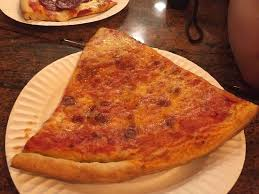pizza: (32, 29, 258, 184)
